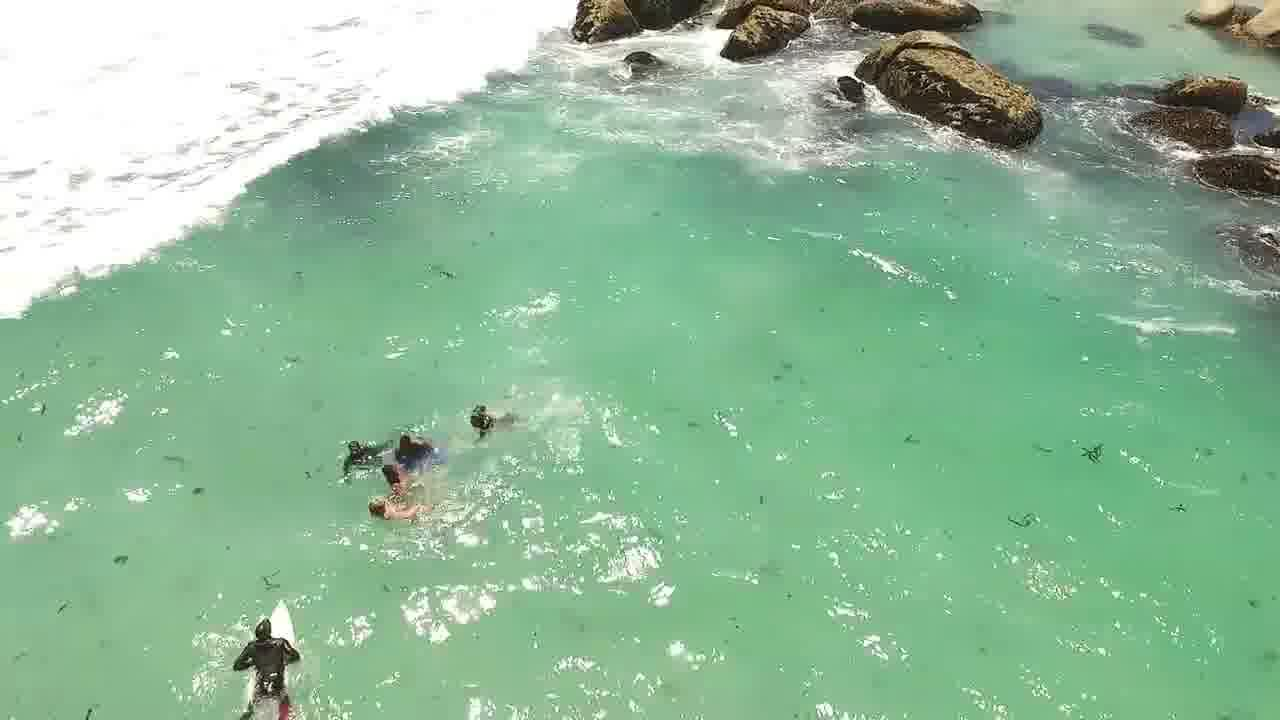swimmer: (457, 397, 527, 446), (317, 430, 389, 473), (390, 430, 460, 472), (371, 456, 430, 501), (360, 489, 431, 523)
